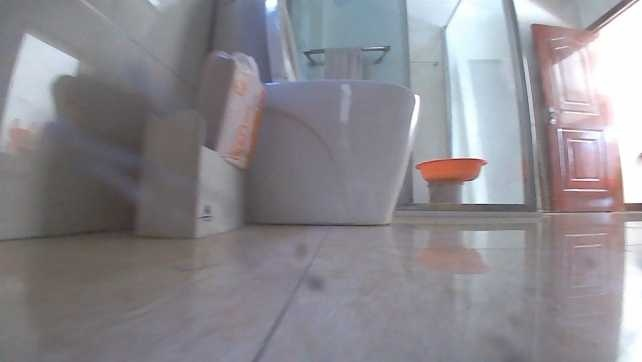toilet: (203, 0, 420, 227)
